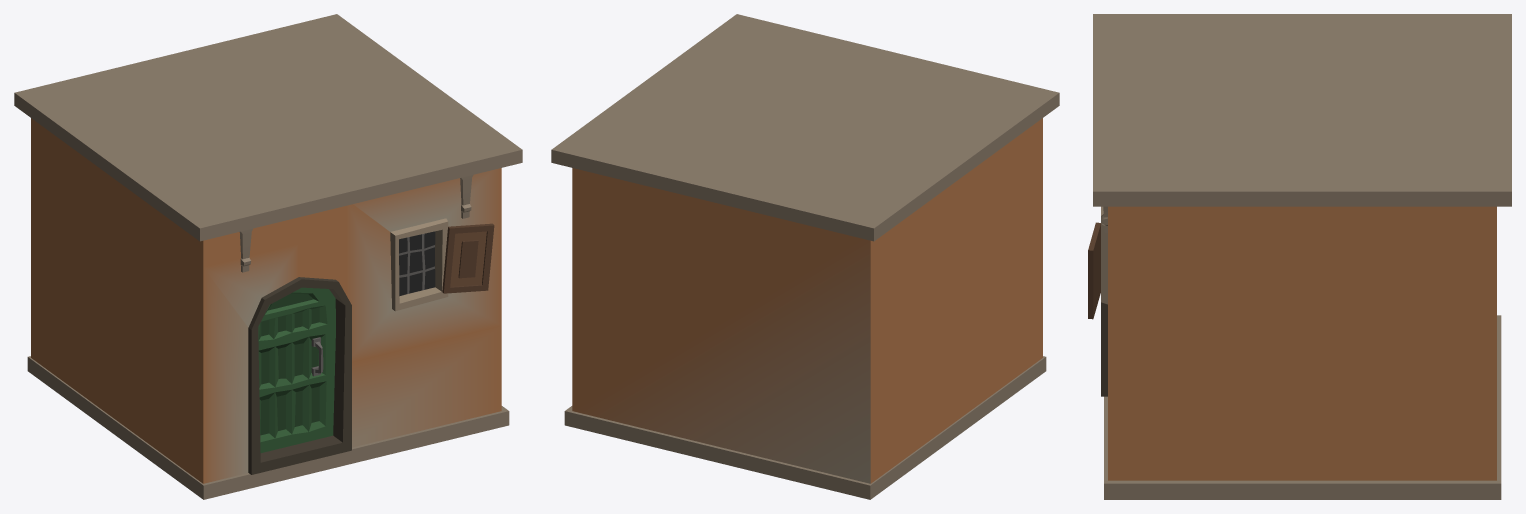
Rendered from SM_Bld_Cuba_Room_04.glb.
3 renders of one model, left to right at view 1: azimuth 30°, elevation 25°; view 2: azimuth 150°, elevation 25°; view 3: azimuth 270°, elevation 25°, orthographic. The views are drawn at different scales.
Visible parts, largest first — view 1: SM_Bld_Cuba_Room_04; view 2: SM_Bld_Cuba_Room_04; view 3: SM_Bld_Cuba_Room_04.
Boxes of the visible parts, left/top/right/bottom form: SM_Bld_Cuba_Room_04: left=14, top=14, right=522, bottom=499; SM_Bld_Cuba_Room_04: left=551, top=14, right=1059, bottom=499; SM_Bld_Cuba_Room_04: left=1088, top=14, right=1511, bottom=499.
Size of the model in its own units: 0.0406 by 0.0333 by 0.0409.
